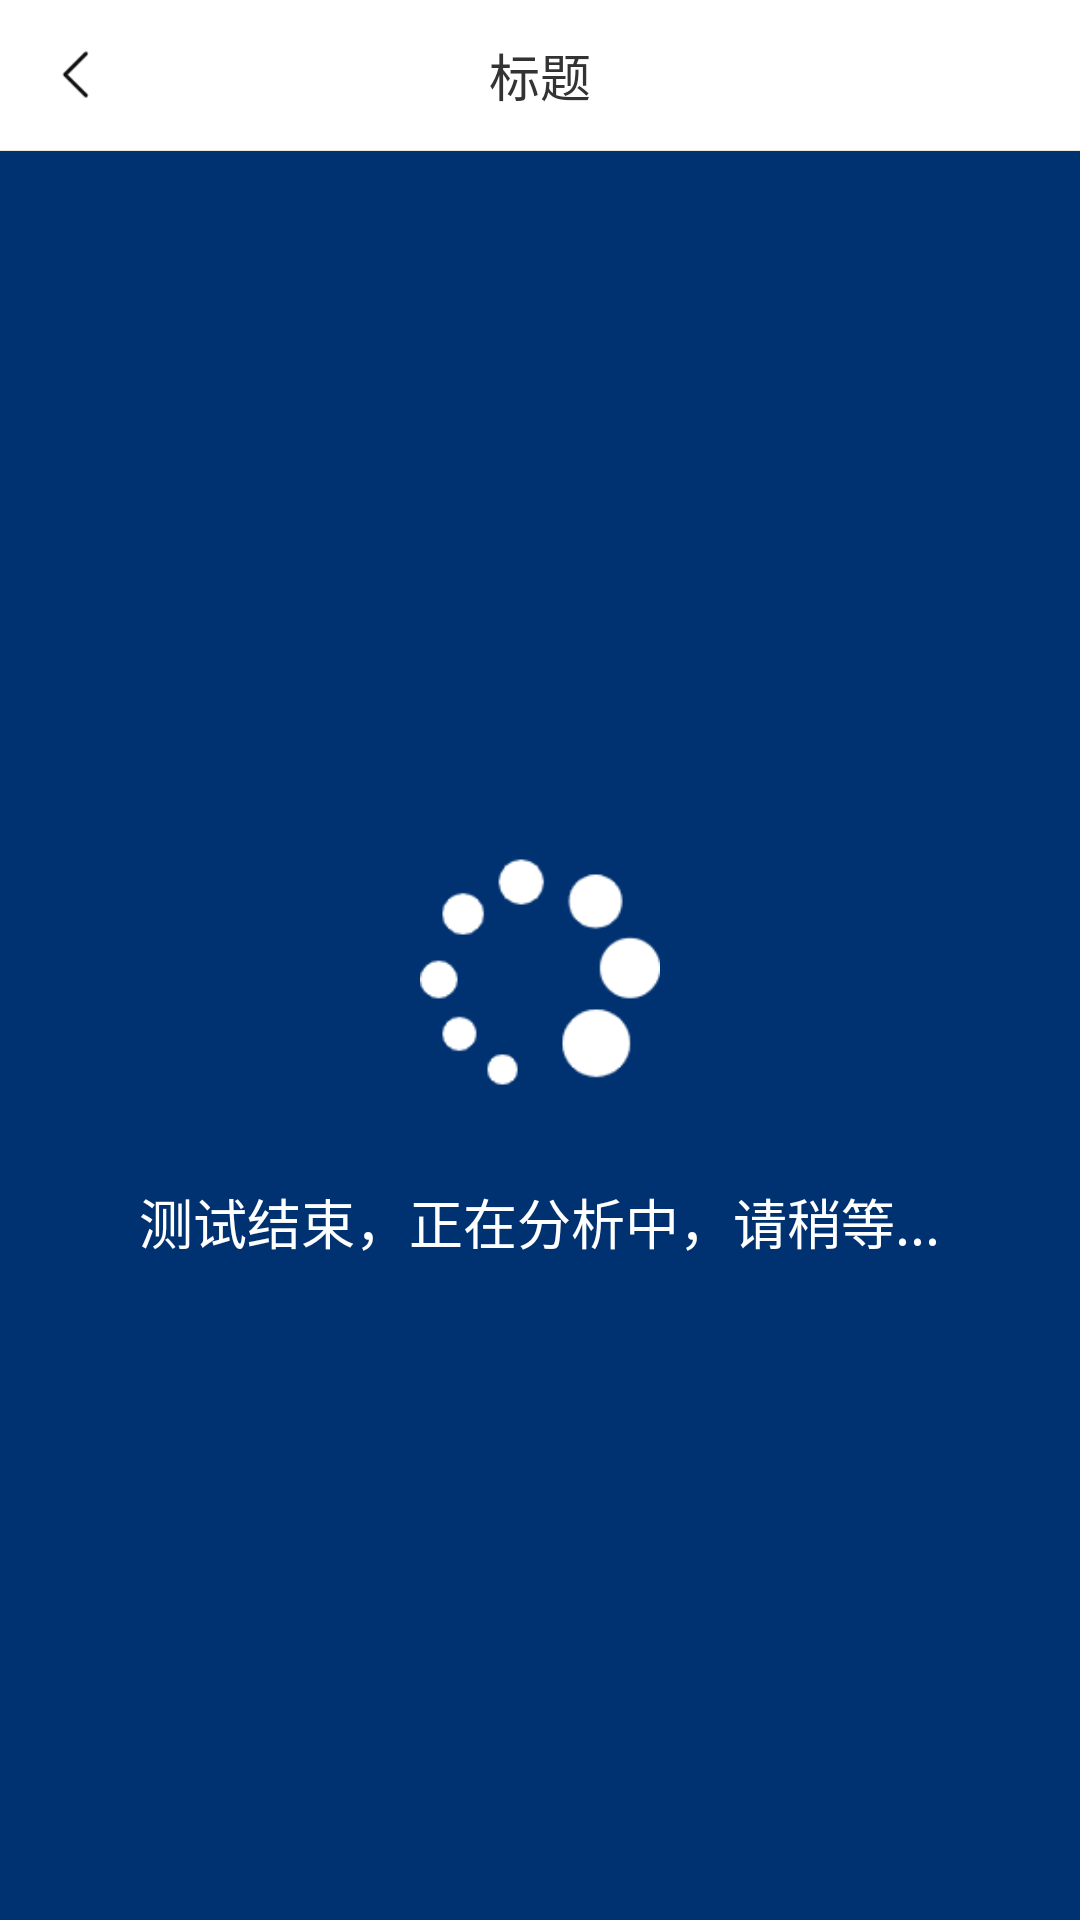

Where icons sit on this 1080w x 1920h app screen, as box=[x1, y1, x2, y2]:
arrow left: box=[62, 51, 89, 98]
